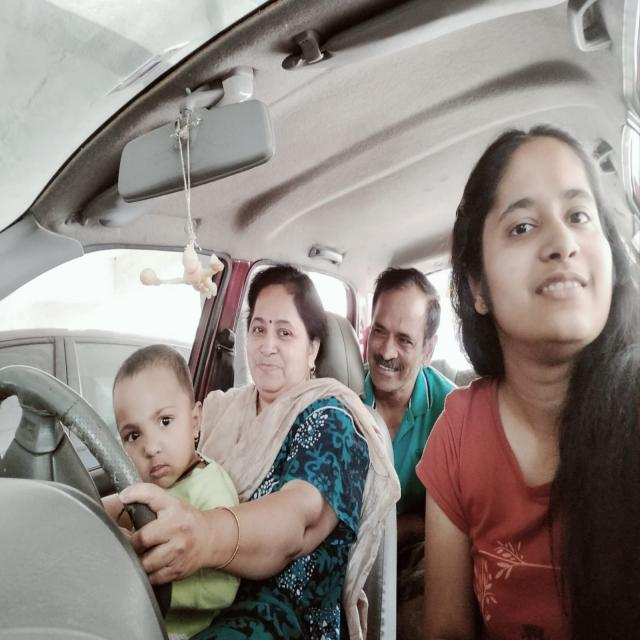child: (107, 347, 205, 499)
person: (456, 121, 627, 352), (234, 256, 325, 414), (360, 260, 442, 411)
